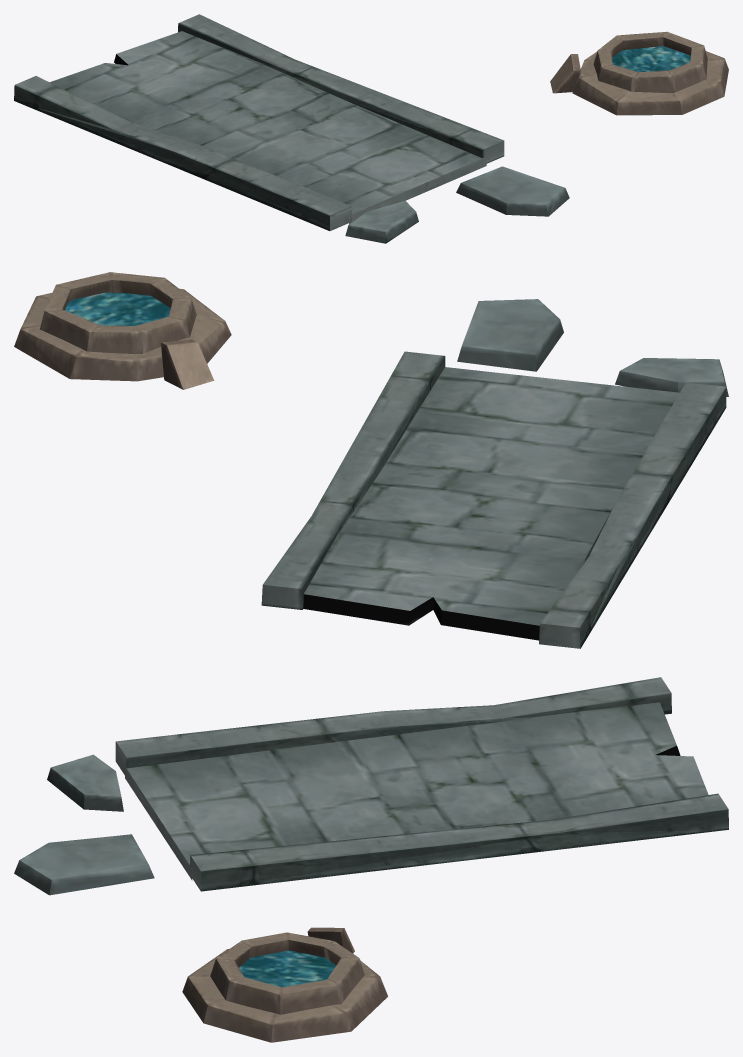
Rendered from Area_02_12.fbx.
The picture shows the model from 3 angles, top to bottom: view 1: azimuth 30°, elevation 25°; view 2: azimuth 150°, elevation 25°; view 3: azimuth 270°, elevation 25°; orthographic projection. The views are drawn at different scales.
Visible parts, largest first — view 1: Area_02_12; view 2: Area_02_12; view 3: Area_02_12.
Part boxes in pixels (box(x1,y1,x2,y2)): Area_02_12: box(14, 14, 728, 243); Area_02_12: box(14, 272, 728, 648); Area_02_12: box(14, 677, 728, 1042).
Bounding box in the file's own units: 1709 × 102 × 1466.
